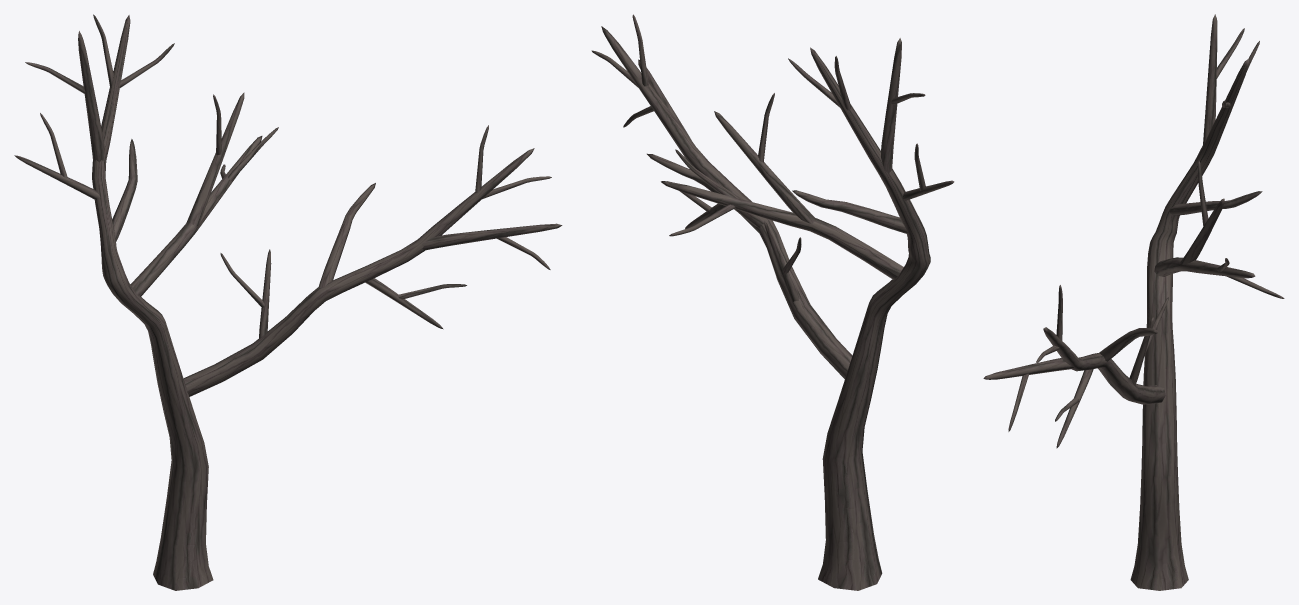
The model's file is DeadTree_6.gltf.
3 views of the same model, side by side, from view 1: azimuth 30°, elevation 25°; view 2: azimuth 150°, elevation 25°; view 3: azimuth 270°, elevation 25° (orthographic). The views are drawn at different scales.
Visible parts, largest first — view 1: DeadTree_6; view 2: DeadTree_6; view 3: DeadTree_6.
Boxes of the visible parts, <box> form: DeadTree_6: <box>14,14,562,590</box>; DeadTree_6: <box>591,14,954,590</box>; DeadTree_6: <box>983,14,1284,590</box>.
Bounding box in the file's own units: 5.41 × 6.41 × 3.3.
Materials: 1 (1 with a texture image).
